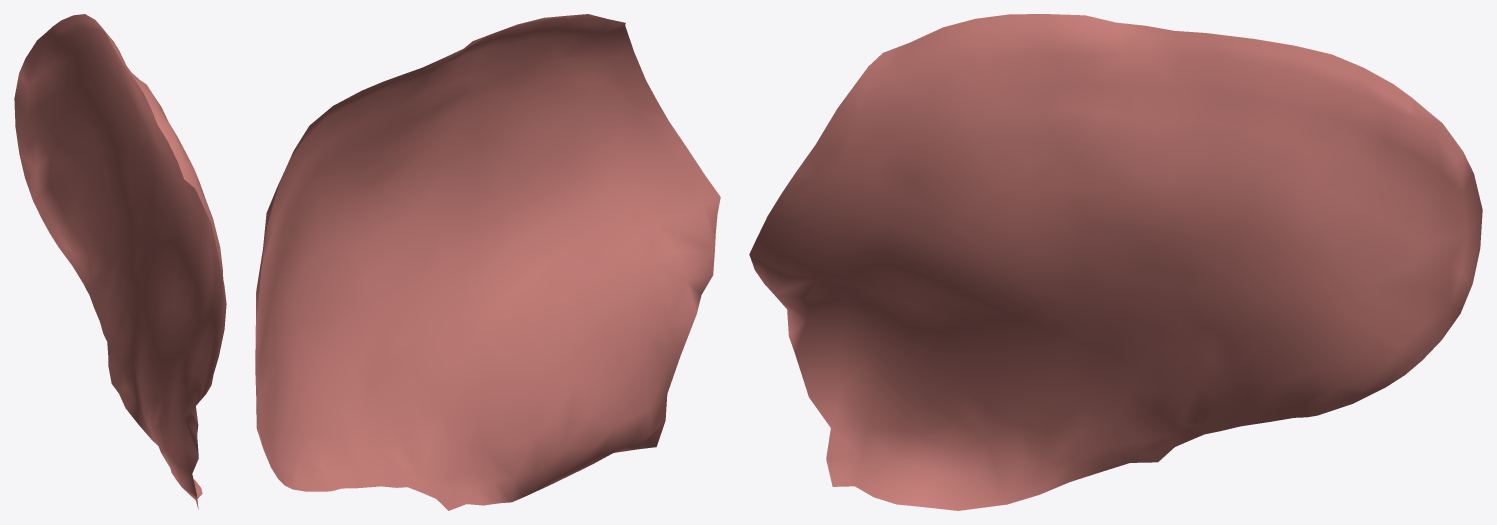
3 renders of one model, left to right at view 1: azimuth 30°, elevation 25°; view 2: azimuth 150°, elevation 25°; view 3: azimuth 270°, elevation 25°, orthographic. The views are drawn at different scales.
Visible parts, largest first — view 1: ZA_60a91687f8a78e4f; view 2: ZA_60a91687f8a78e4f; view 3: ZA_60a91687f8a78e4f.
Boxes of the visible parts, bbox=[...] form: ZA_60a91687f8a78e4f: bbox=[14, 14, 226, 509]; ZA_60a91687f8a78e4f: bbox=[255, 14, 720, 510]; ZA_60a91687f8a78e4f: bbox=[749, 14, 1482, 510].
Size of the model in its own units: 0.0285 by 0.0845 by 0.1138.
